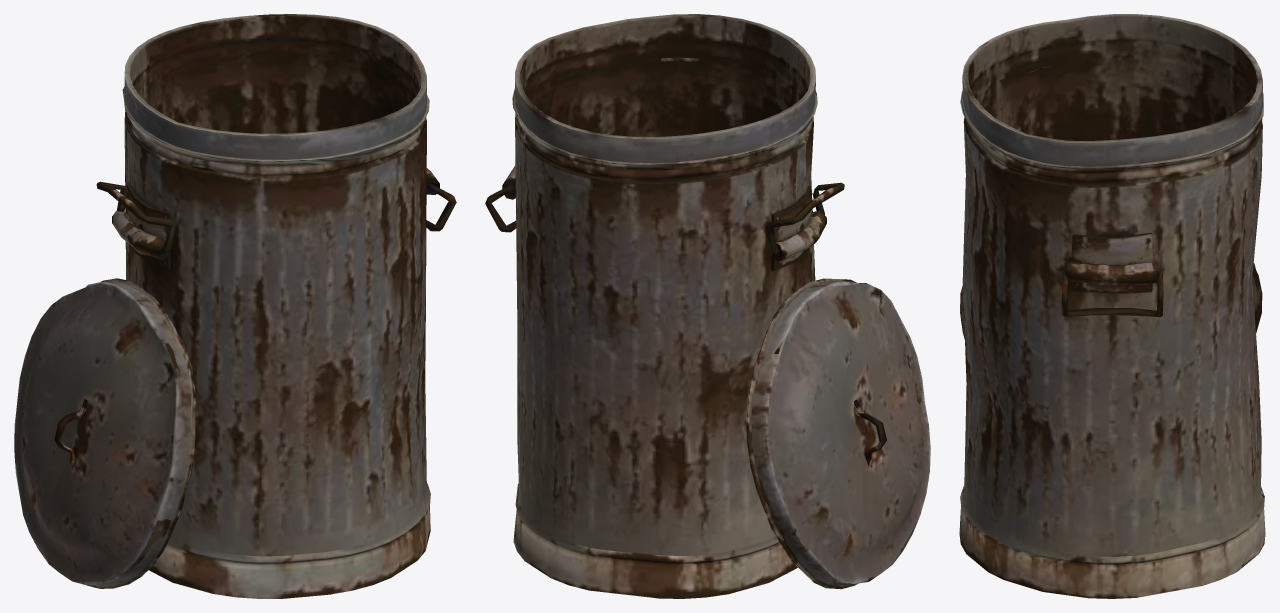
The model's file is trash-can.glb.
3 renders of one model, left to right at view 1: azimuth 30°, elevation 25°; view 2: azimuth 150°, elevation 25°; view 3: azimuth 270°, elevation 25°, orthographic.
Parts seen in each view (by area): view 1: metal_trash_can_rust; view 2: metal_trash_can_rust; view 3: metal_trash_can_rust.
Boxes of the visible parts, <box> form: metal_trash_can_rust: <box>14,14,456,598</box>; metal_trash_can_rust: <box>485,14,930,598</box>; metal_trash_can_rust: <box>959,14,1265,598</box>.
Size of the model in its own units: 0.7718 by 0.9062 by 0.5482.
Materials: 1 (1 with a texture image).
